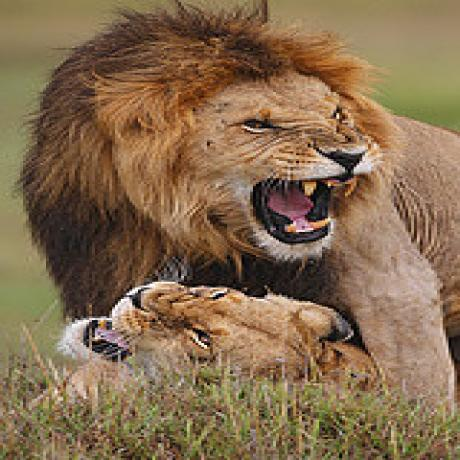Lion: (6, 0, 460, 312), (47, 277, 384, 399)
